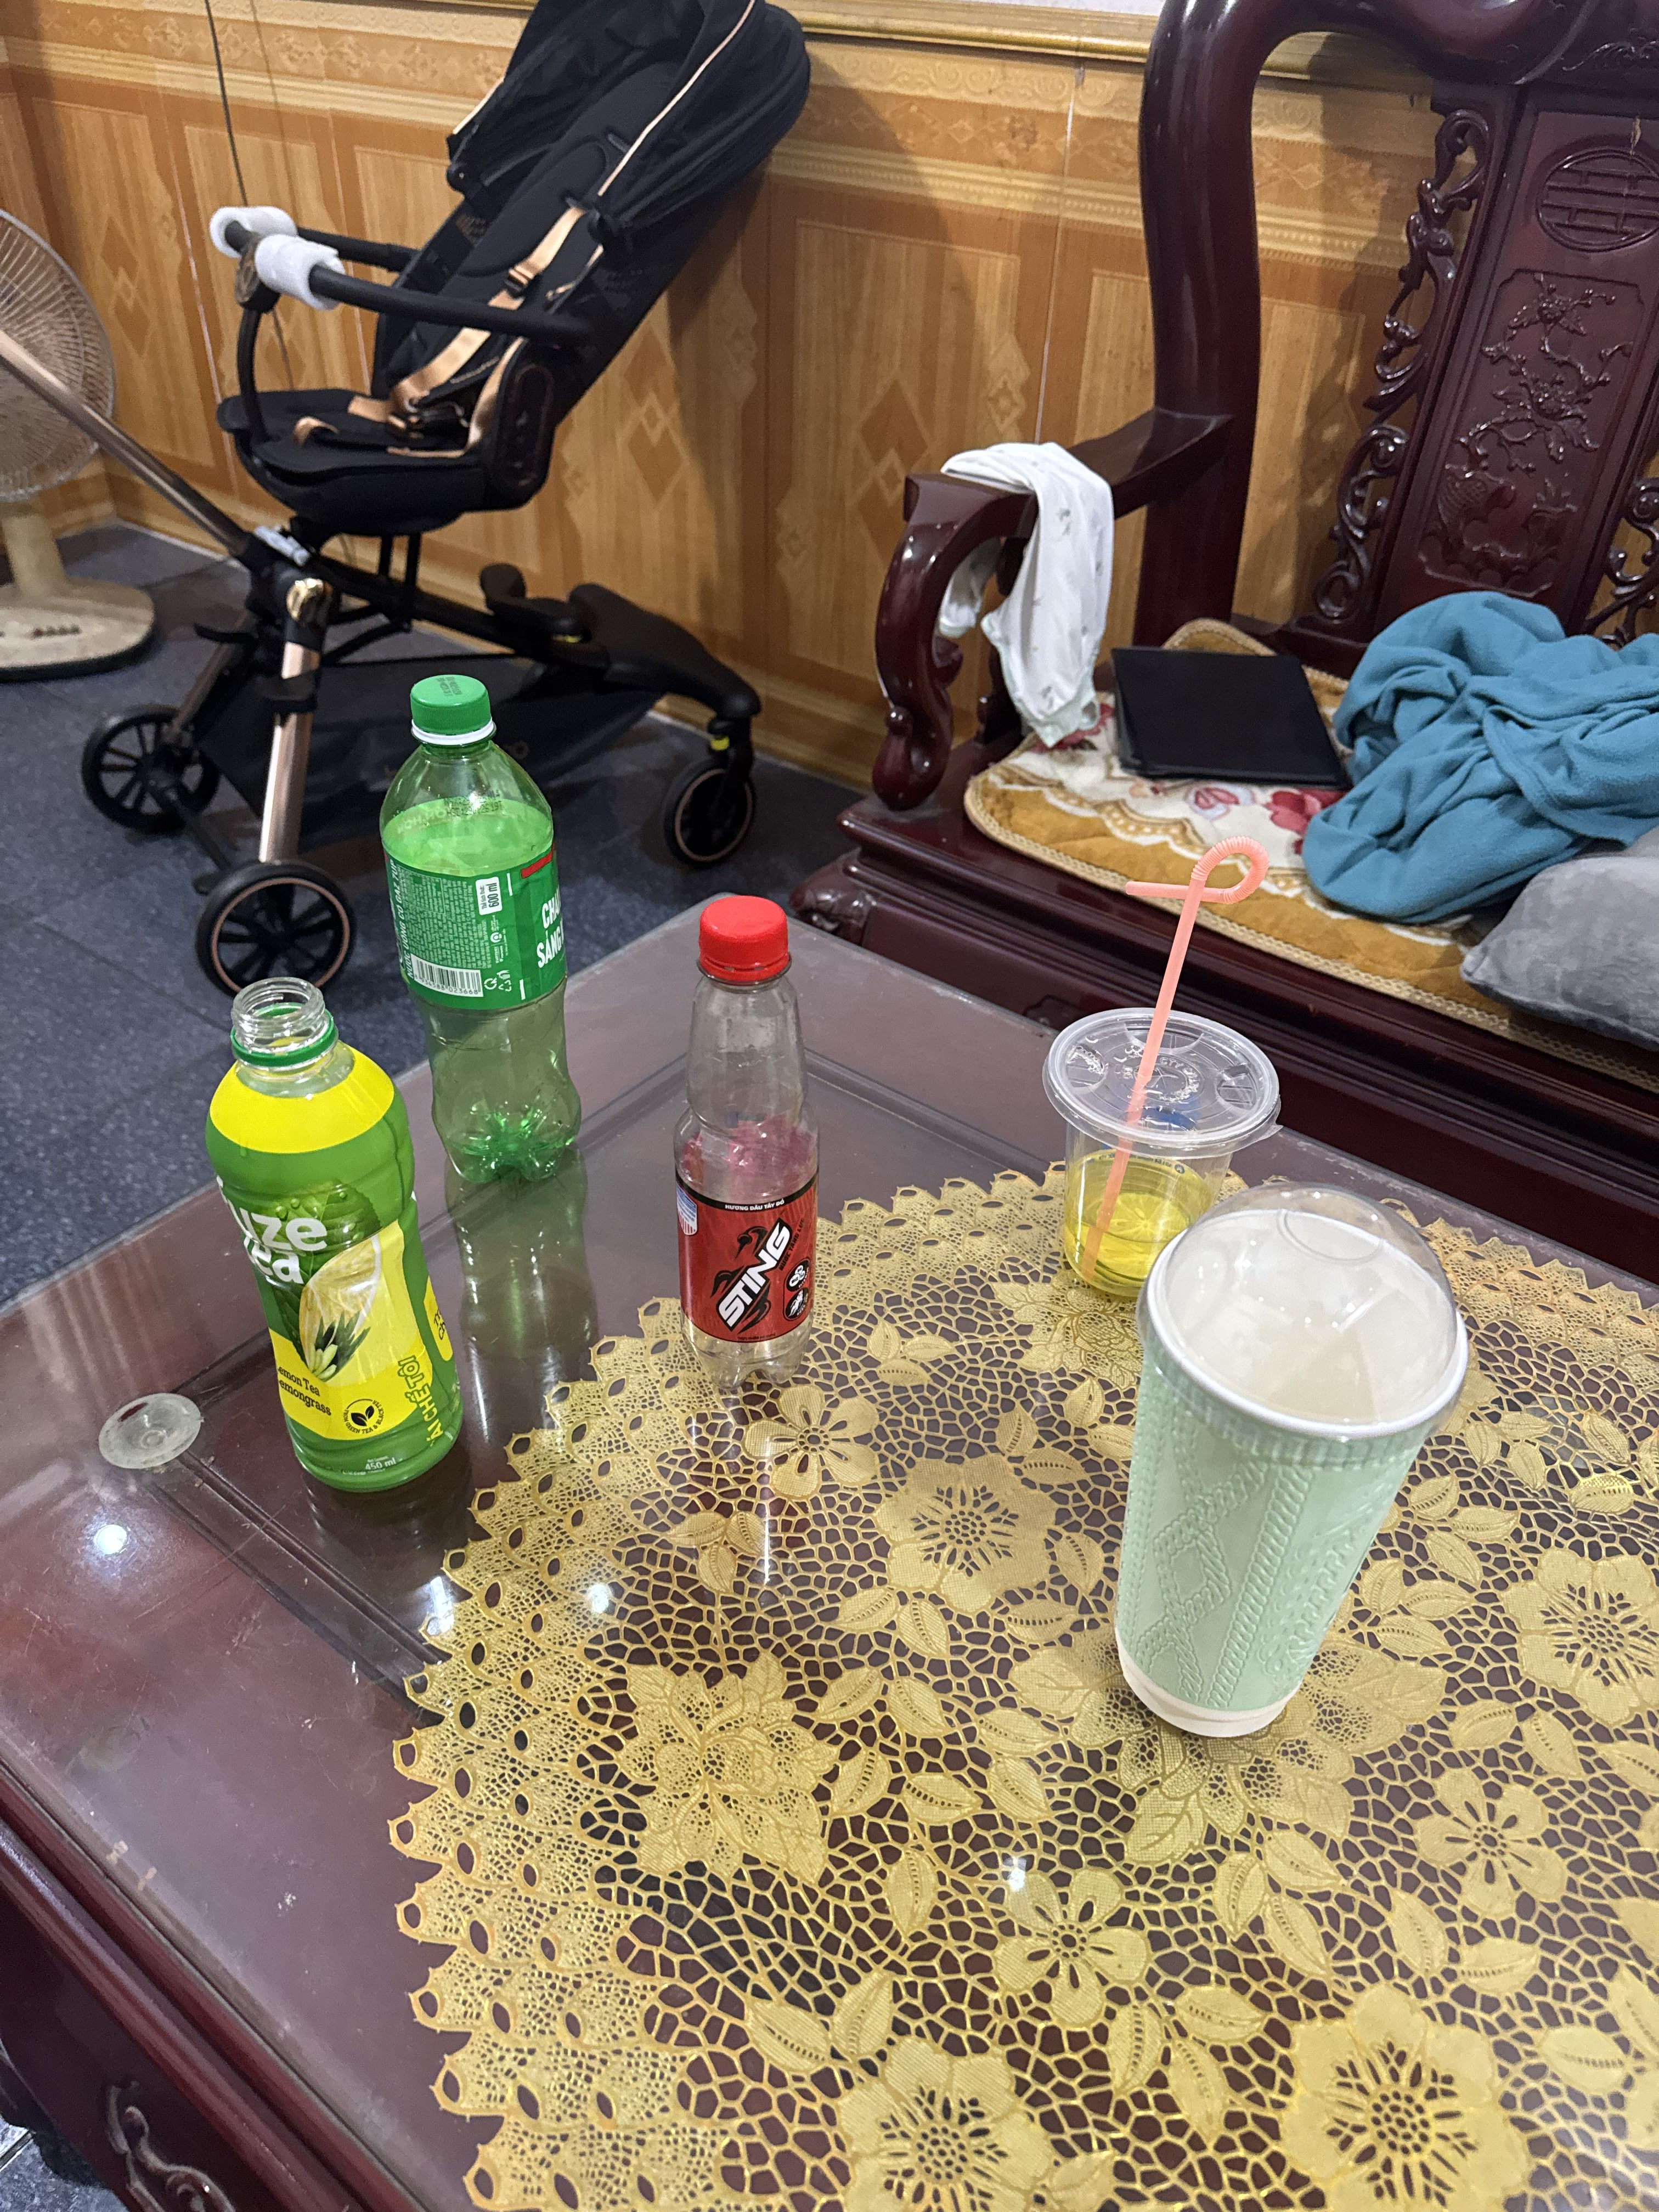2: (1079, 1163, 1485, 1775), (1016, 993, 1295, 1322)
bottle: (193, 972, 495, 1508), (362, 660, 633, 1209), (640, 869, 847, 1432)
